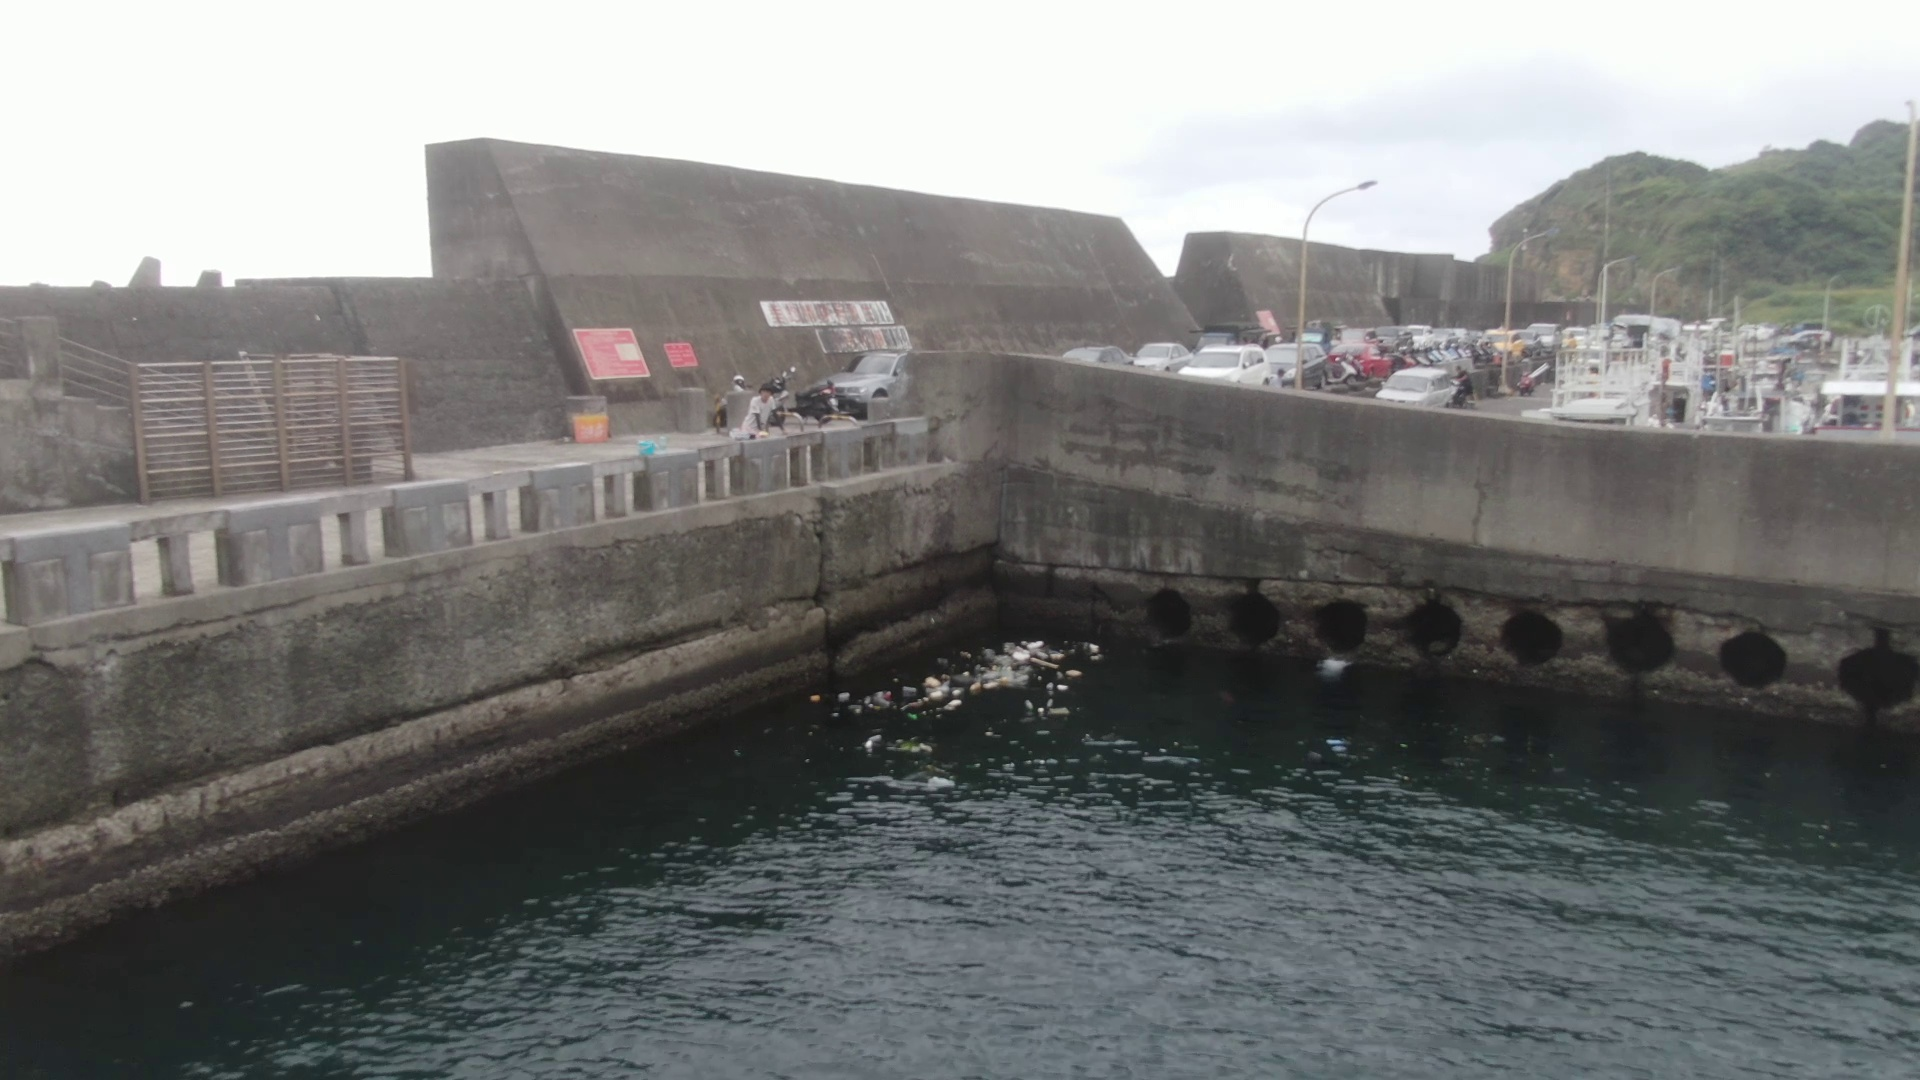garbage: (795, 632, 1153, 767)
